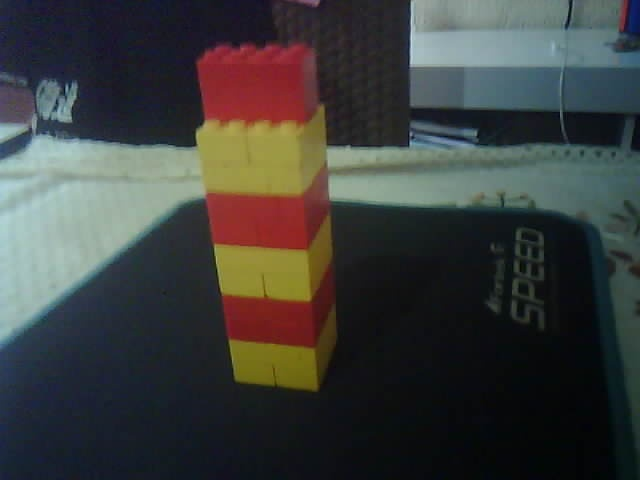lego: (194, 40, 337, 393)
